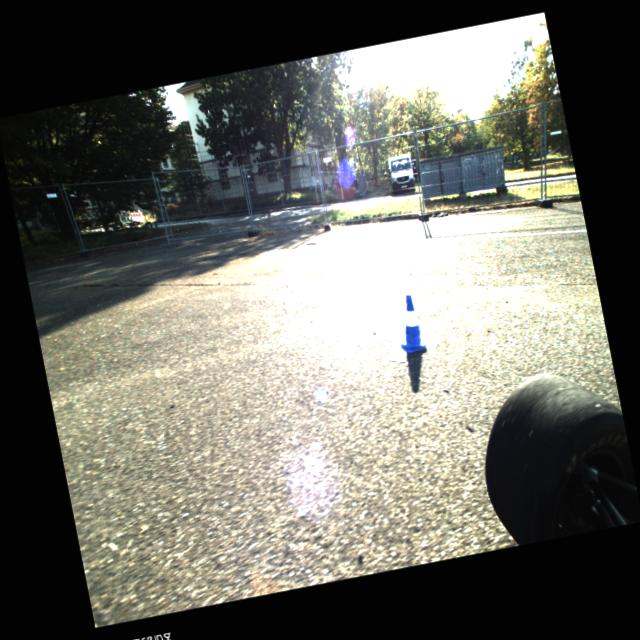blue_cone: (392, 294, 427, 354)
